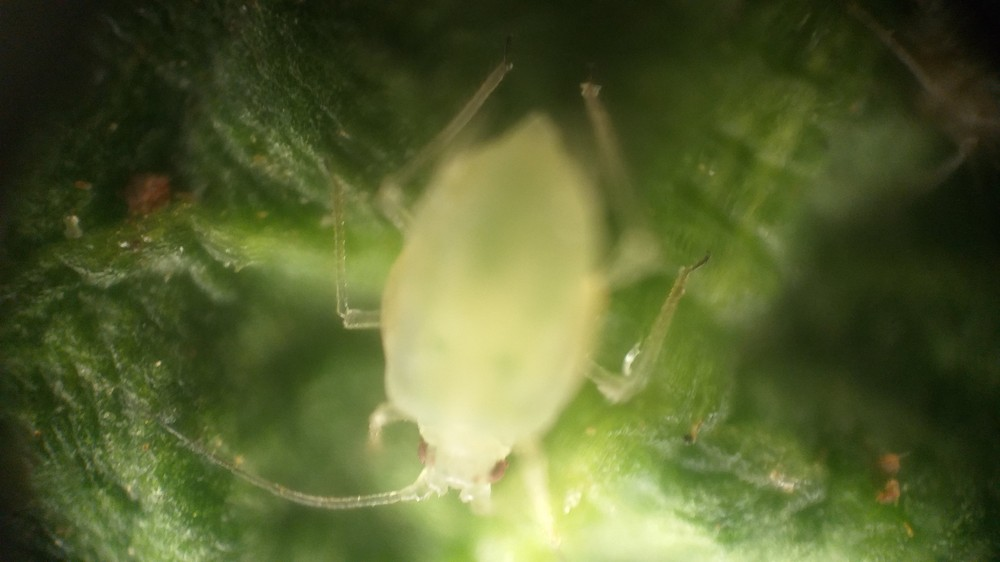Pulgon: (210, 49, 734, 558)
